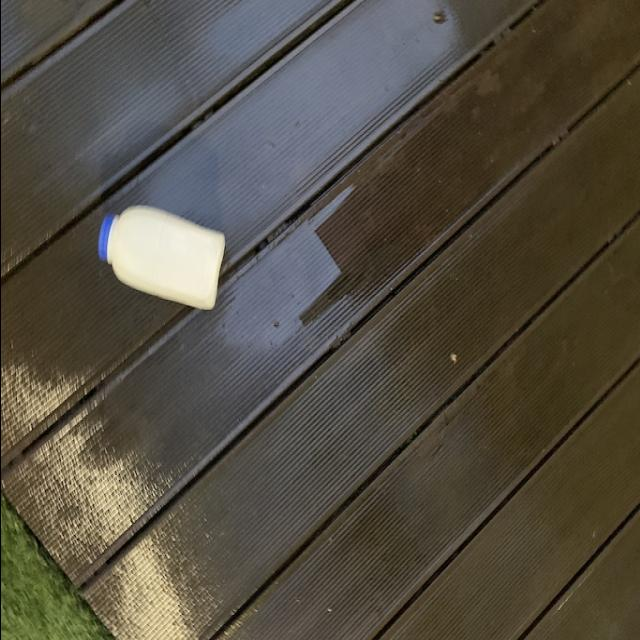litter: (99, 207, 225, 315)
